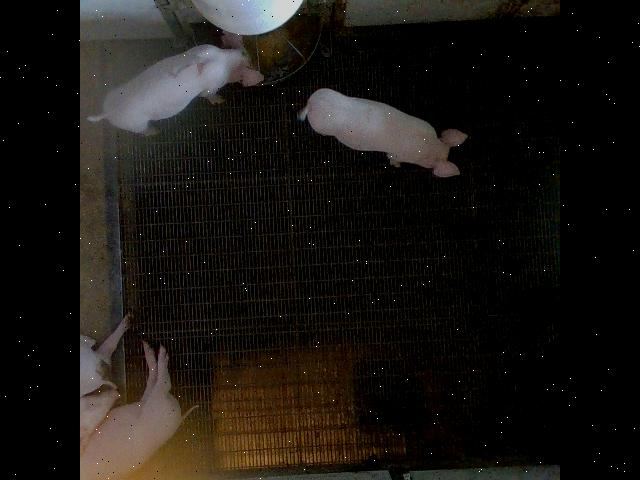pig-5: (88, 31, 264, 132)
